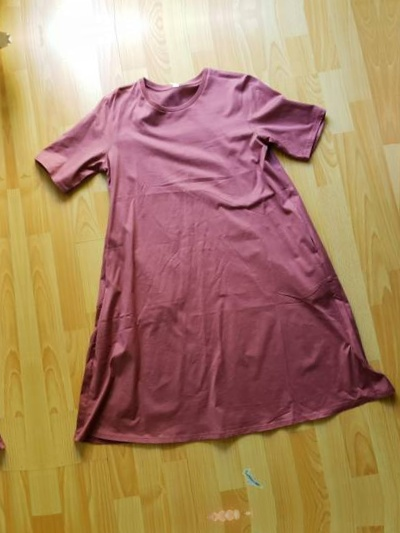Dress: (2, 45, 400, 485), (0, 83, 43, 523), (396, 4, 400, 444)
